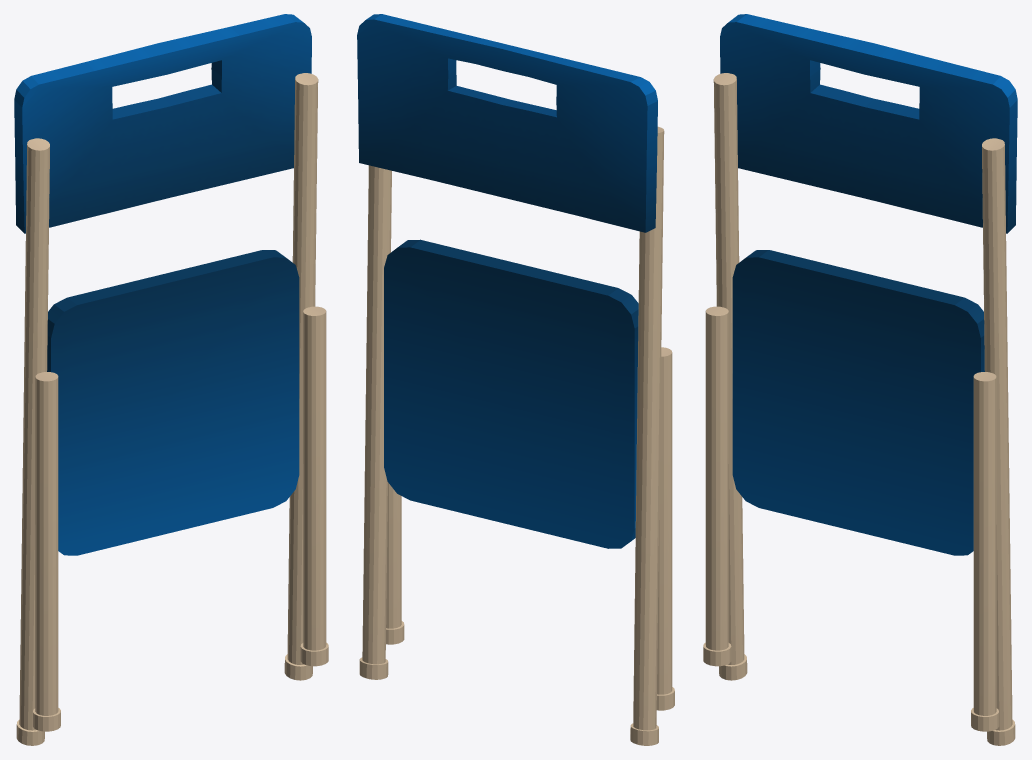
Rendered from SM_Weapon_Chair_01.fbx.
3 renders of one model, left to right at view 1: azimuth 30°, elevation 25°; view 2: azimuth 150°, elevation 25°; view 3: azimuth 330°, elevation 25°, orthographic.
Visible parts, largest first — view 1: SM_BattleChair_01; view 2: SM_BattleChair_01; view 3: SM_BattleChair_01.
Part boxes in pixels (<box>): SM_BattleChair_01: <box>14,14,328,745</box>; SM_BattleChair_01: <box>357,14,674,745</box>; SM_BattleChair_01: <box>703,14,1017,745</box>.
Bounding box in the file's own units: 142 × 306 × 25.23.
